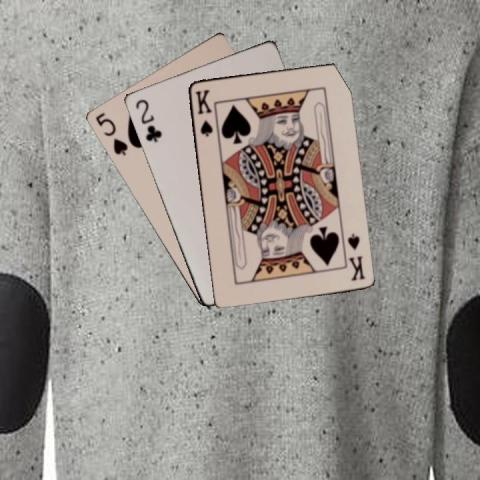2c: (132, 96, 163, 144)
5s: (92, 110, 129, 158)
Ks: (192, 87, 214, 138), (344, 229, 365, 282)
